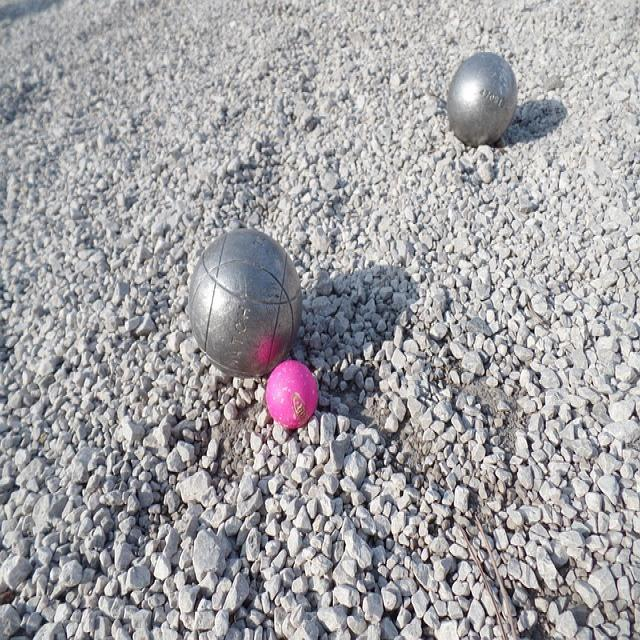hatball: (258, 359, 332, 441)
petanque: (178, 226, 312, 387), (442, 49, 534, 162)
